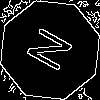N: (25, 25, 82, 79)
